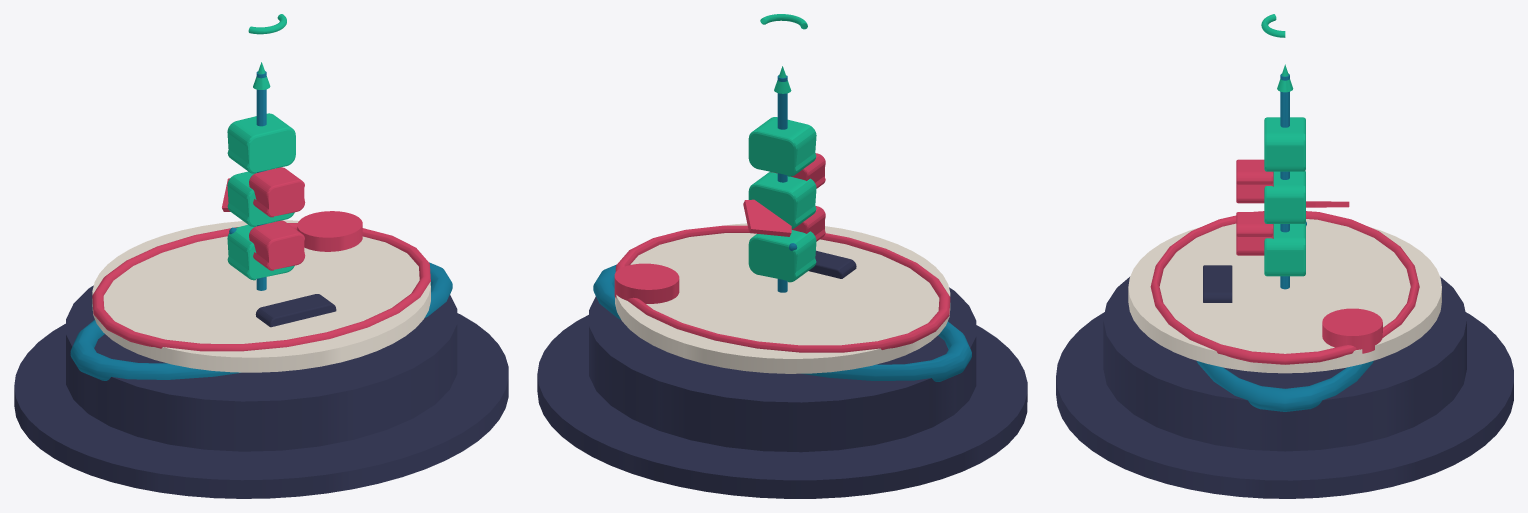
File: 0314_揭秘食物图鉴_彩色土豆.glb
3 views of the same model, side by side, from view 1: azimuth 30°, elevation 25°; view 2: azimuth 150°, elevation 25°; view 3: azimuth 270°, elevation 25° (orthographic).
Parts seen in each view (by area): view 1: card_0314; view 2: card_0314; view 3: card_0314.
Part boxes in pixels (x1=…): card_0314: x1=14, y1=14, x2=508, y2=498; card_0314: x1=537, y1=14, x2=1027, y2=498; card_0314: x1=1056, y1=14, x2=1513, y2=498.
Bounding box in the file's own units: 1.2 × 1 × 1.11.
